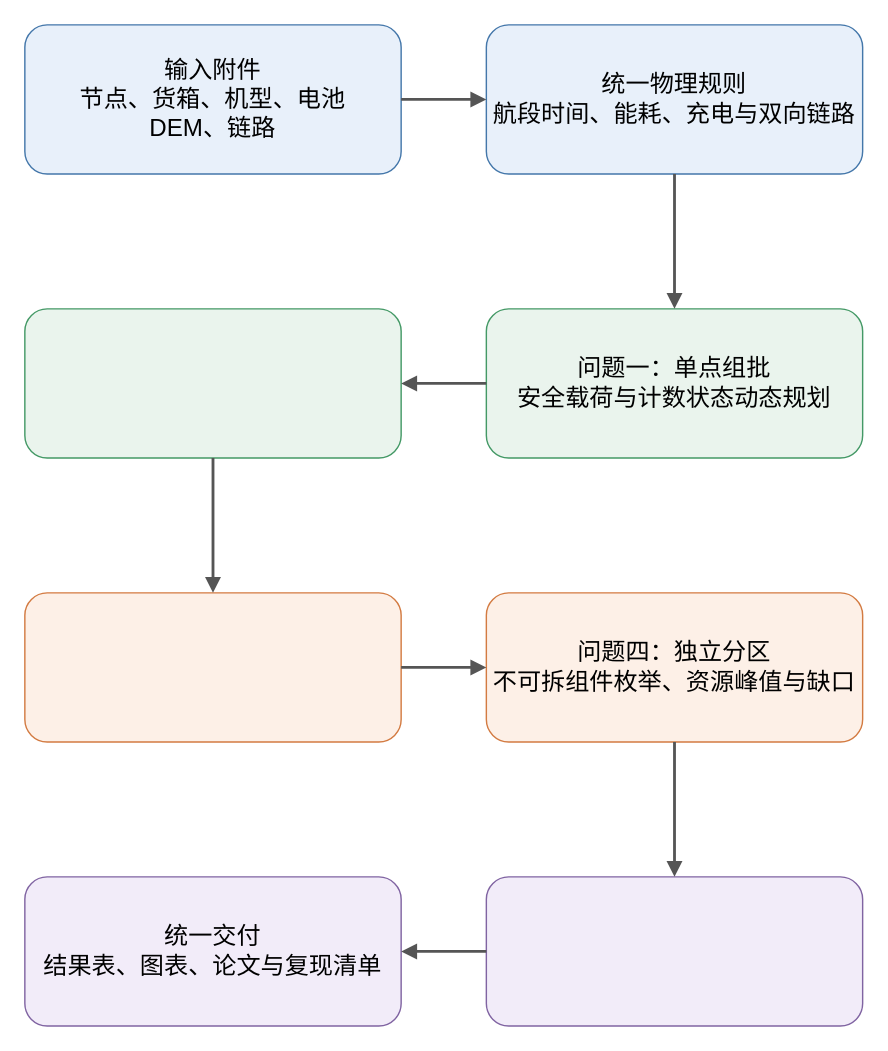
The diagram is 888 pixels wide and 1051 high, and some of its shapes have lost their labels. The shapes that lost their labels are listed below. From the top down, each one's box as (x1, y1, x2, y2) in pixels, then its label:
(23, 307, 401, 458): 问题二：多点运输 四种算法同预算比较 车辆与电池排程
(23, 591, 401, 742): 问题三：通信协同 救援时间—能源权衡 连续轨迹通信核验
(485, 875, 863, 1026): 逐项验证 唯一覆盖、SOC、时限 通信、敏感性
